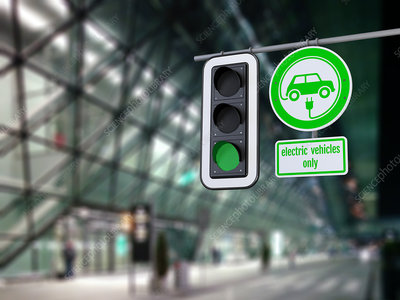trafficlight_green: (211, 66, 247, 175)
